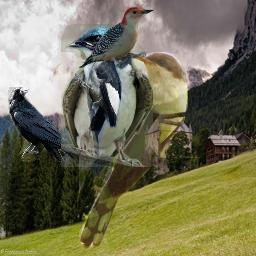Crow: (8, 87, 86, 162)
Cuckoo: (79, 52, 188, 251)
Swallow: (61, 24, 153, 167)
Woodpecker: (75, 40, 122, 158), (79, 7, 155, 68)
